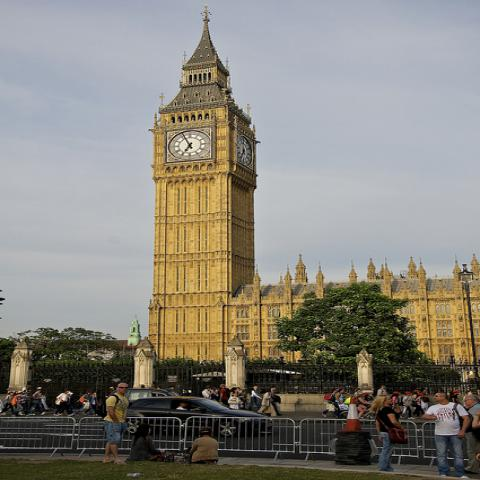car: (126, 397, 271, 438), (94, 388, 182, 418)
